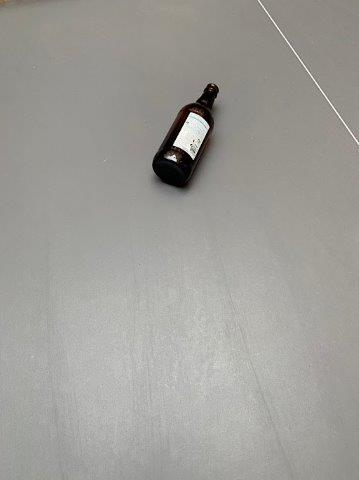botolkaca: (152, 83, 218, 187)
